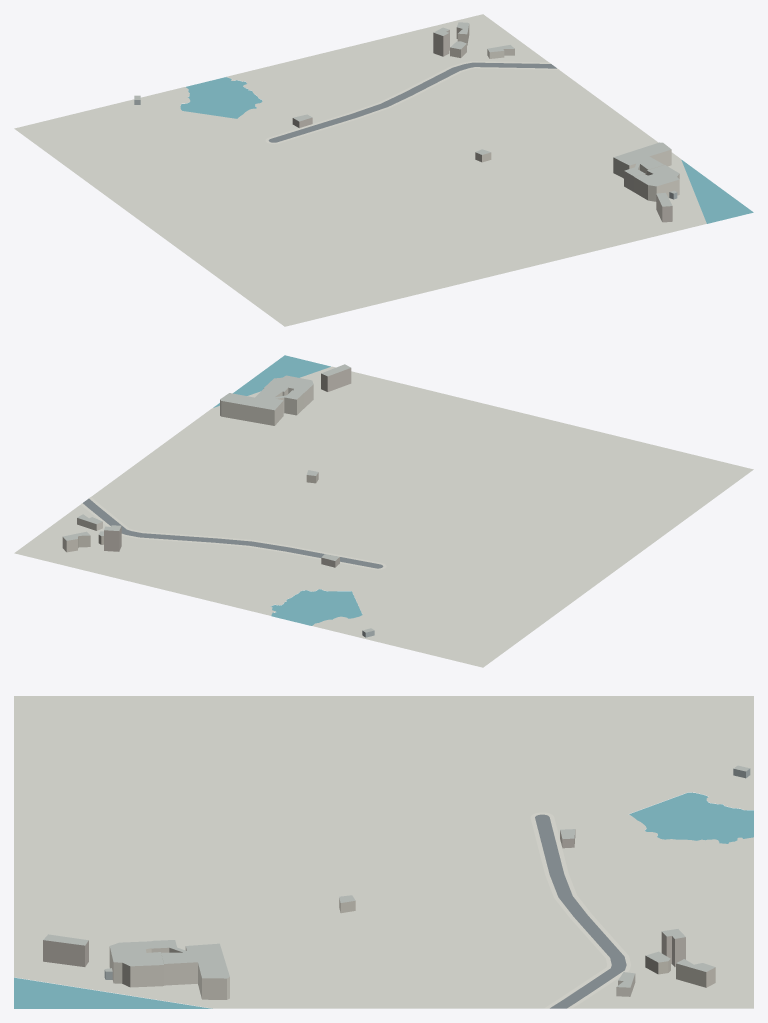
3 renders of one model, top to bottom at view 1: azimuth 30°, elevation 25°; view 2: azimuth 150°, elevation 25°; view 3: azimuth 270°, elevation 25°, orthographic. The views are drawn at different scales.
Visible parts, largest first — view 1: city; view 2: city; view 3: city.
Boxes of the visible parts, x1,y1,x2,y2 form: city: (14,14,753,326); city: (14,355,753,667); city: (14,696,753,1008).
Size of the model in its own units: 500 by 21.28 by 500.
